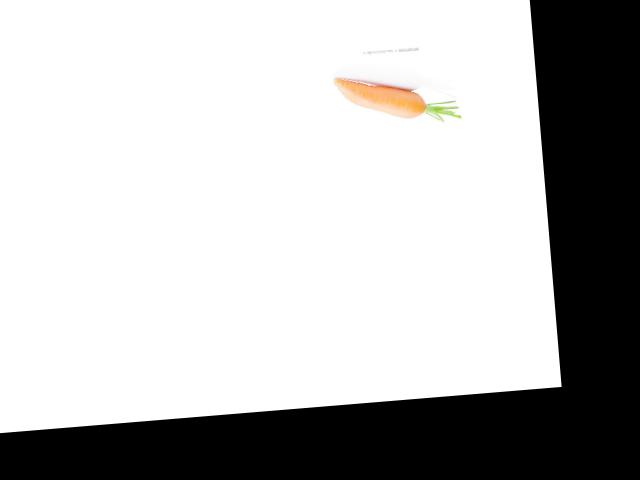carrot: (327, 68, 439, 127)
